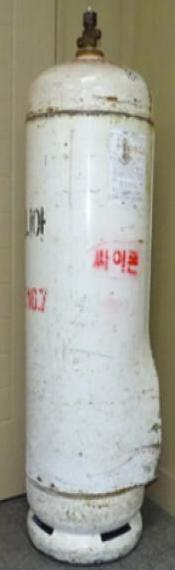cylinder: (1, 1, 175, 570)
